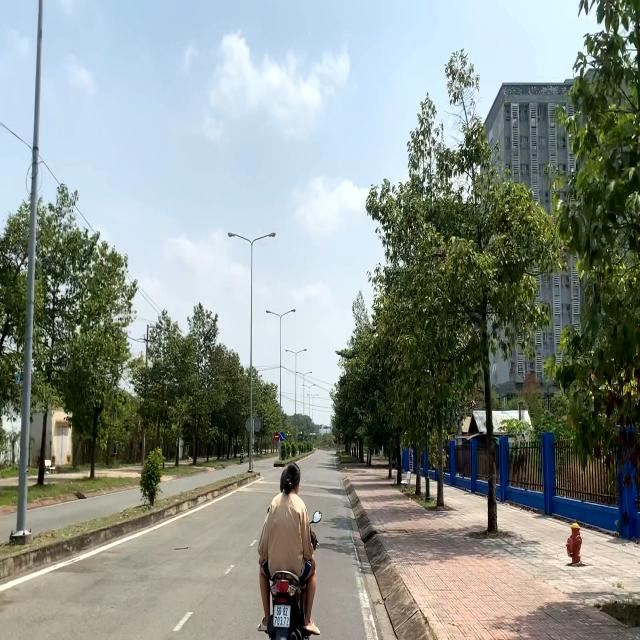Cam di nguoc chieu: (274, 432, 280, 442)
Vong chuong ngai vat sang phai: (279, 432, 284, 442)
